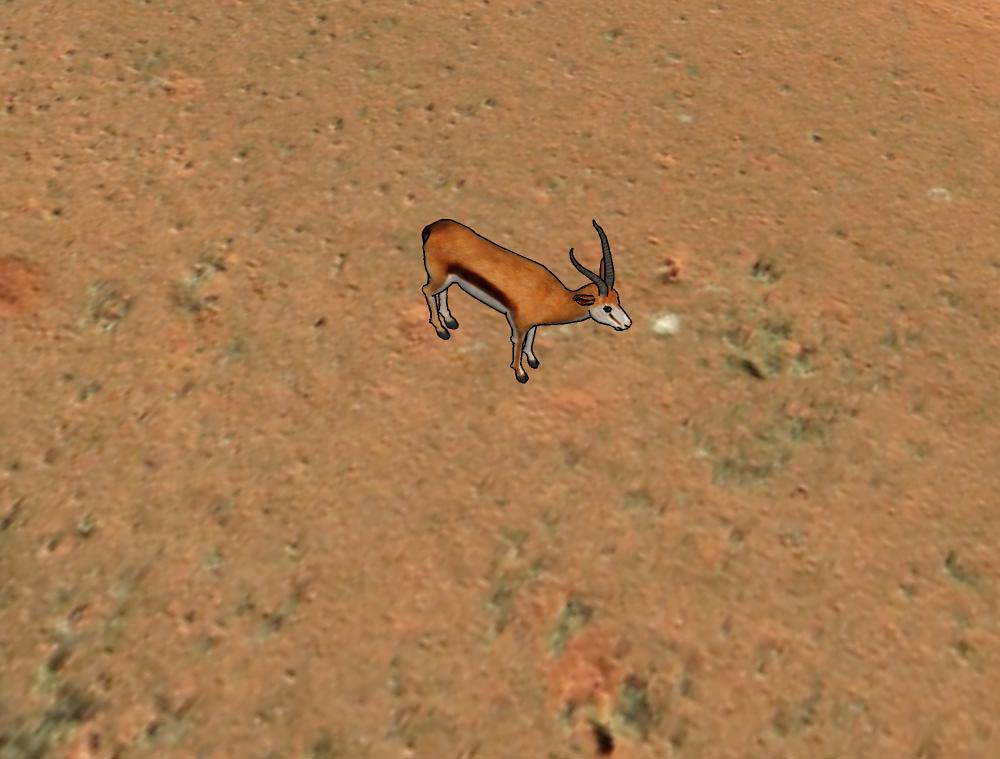springbok: (414, 199, 638, 391)
